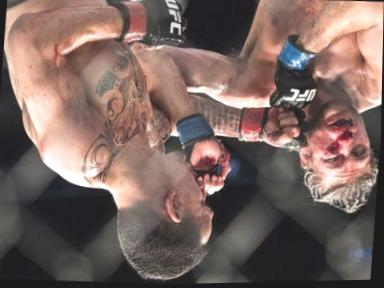Fire: (40, 23, 77, 91), (323, 132, 355, 166)
